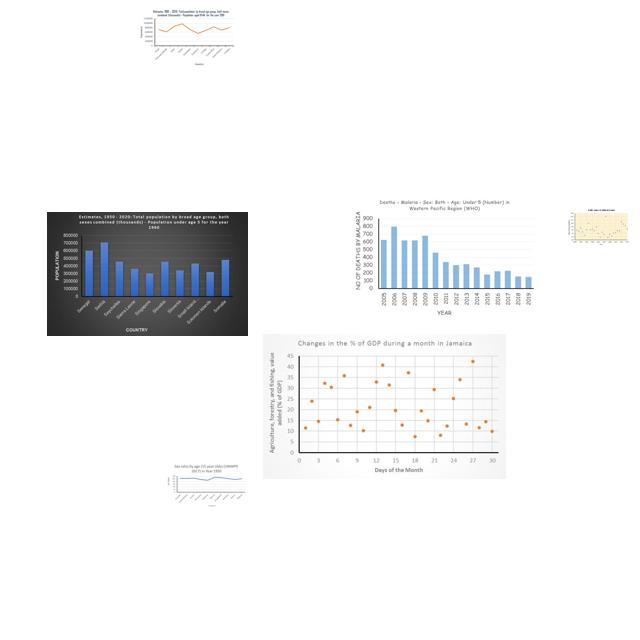Graph: (263, 334, 506, 479), (47, 212, 248, 336), (351, 198, 537, 317), (137, 8, 236, 66), (167, 463, 247, 509), (567, 208, 630, 247)
